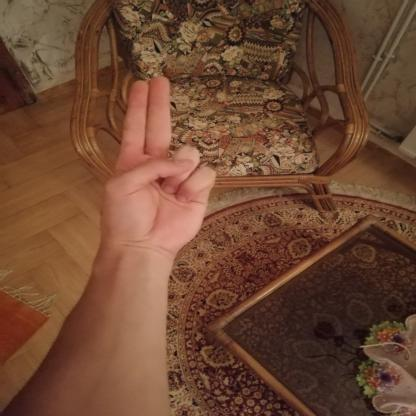TA: (77, 65, 226, 263)
